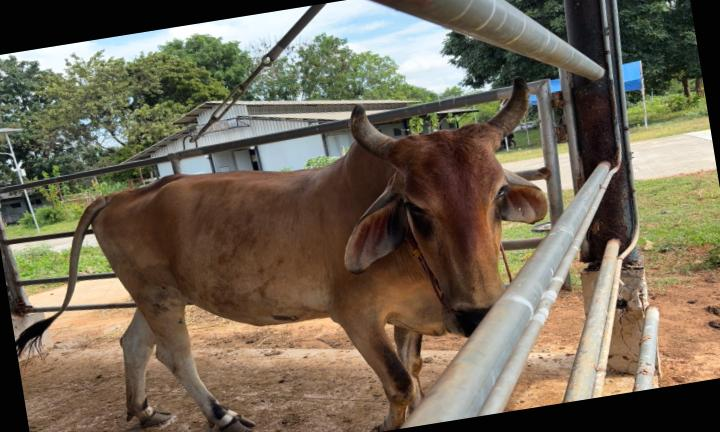Brahman: (61, 77, 547, 432)
